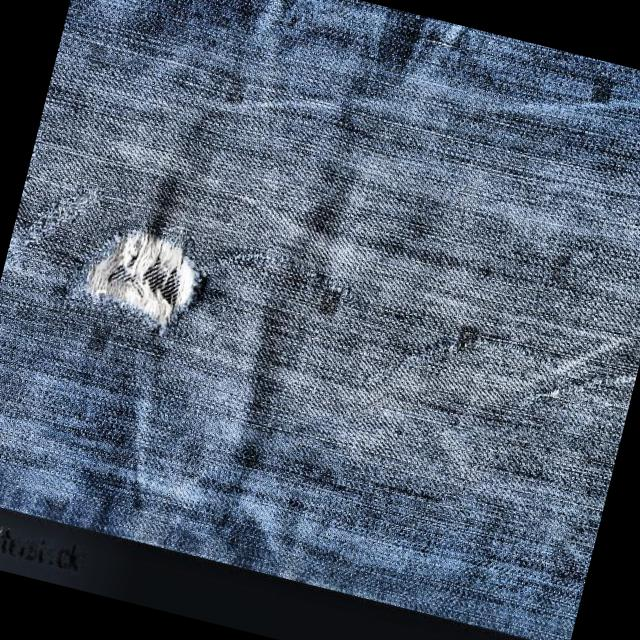cut: (57, 195, 234, 362)
